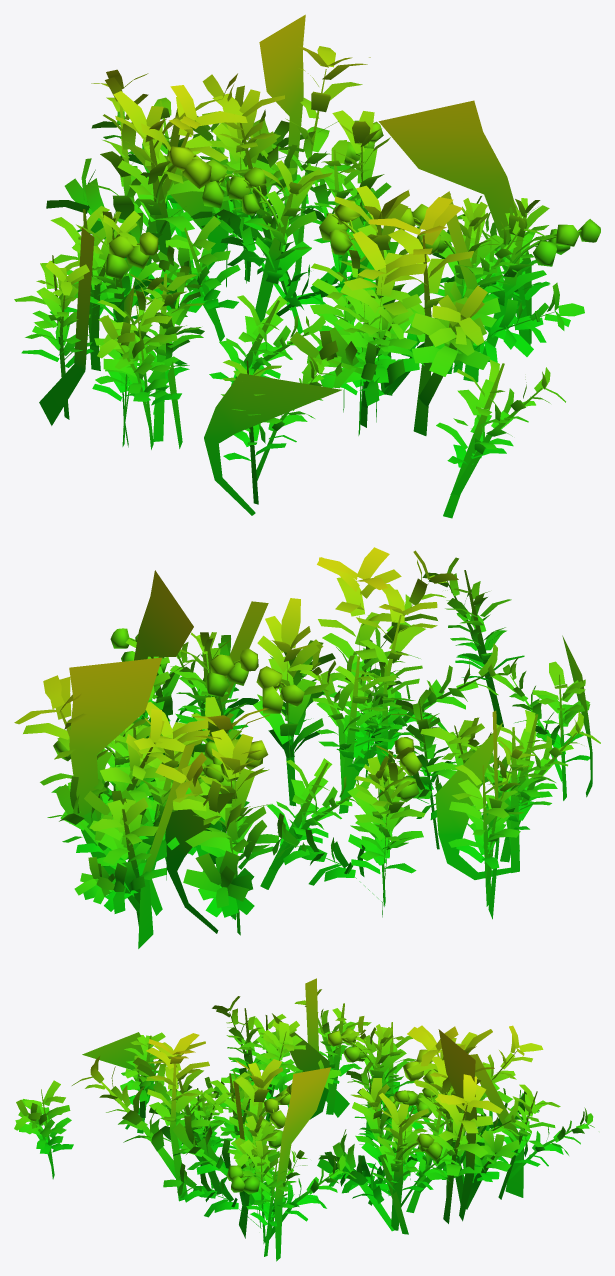
Rendered from Lingonberry_LOD3_Var4_wjhjahlqx.fbx.
The picture shows the model from 3 angles, top to bottom: view 1: azimuth 30°, elevation 25°; view 2: azimuth 150°, elevation 25°; view 3: azimuth 270°, elevation 25°; orthographic projection. The views are drawn at different scales.
Parts seen in each view (by area): view 1: _8tu3_Var4_LOD3; view 2: _8tu3_Var4_LOD3; view 3: _8tu3_Var4_LOD3.
Boxes of the visible parts, x1,y1,x2,y2 form: _8tu3_Var4_LOD3: [14, 14, 600, 518]; _8tu3_Var4_LOD3: [14, 547, 600, 948]; _8tu3_Var4_LOD3: [14, 978, 594, 1261].
Size of the model in its own units: 36.07 by 17.78 by 51.11.
